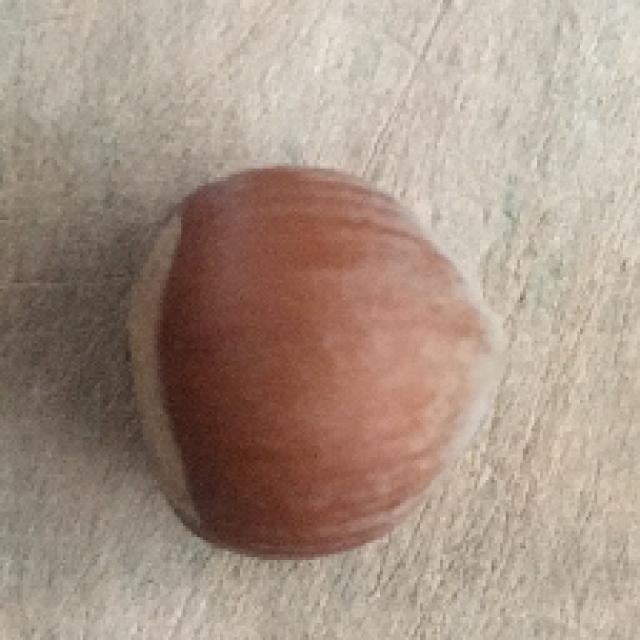qualityHazelnut: (122, 163, 512, 563)
